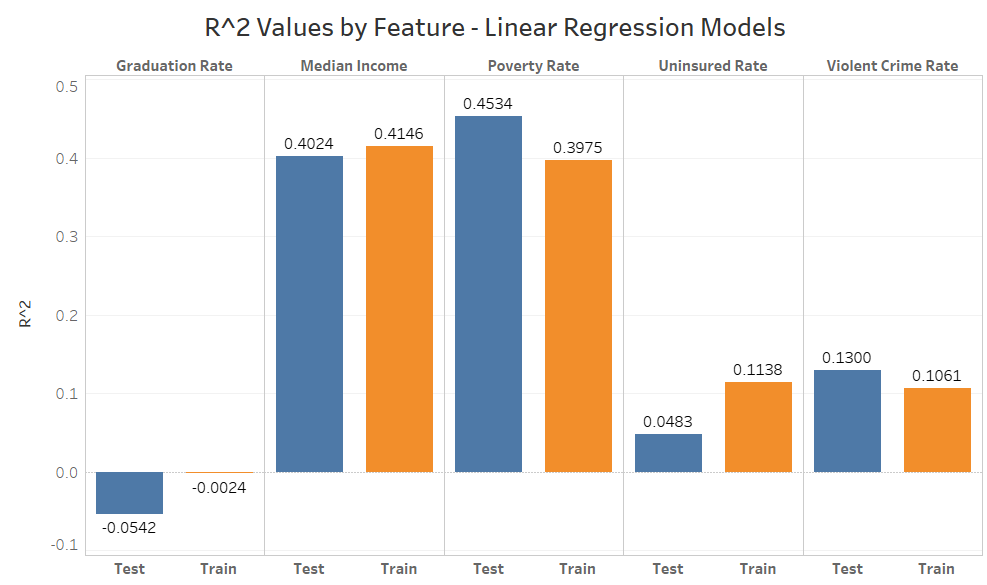

The dashboard page shown, as its layout file describes it:
{"tool":"tableau","page":{"name":"R^2 Values","canvas":[1000,600],"ordinal":0},"visuals":[{"type":"worksheet","title":"Linear Regression R^2","mark":"Automatic","rows":["R^2"],"cols":["Feature(s)","Train/Test"],"box":[8,8,984,584]}]}

Visuals, with their boxes in screenshot pixels (x1, y1, x2, y2), scaled from the page's 1000x600 canvas onto the 987x585 screenshot:
"Linear Regression R^2" worksheet: <box>8,8,979,577</box>
